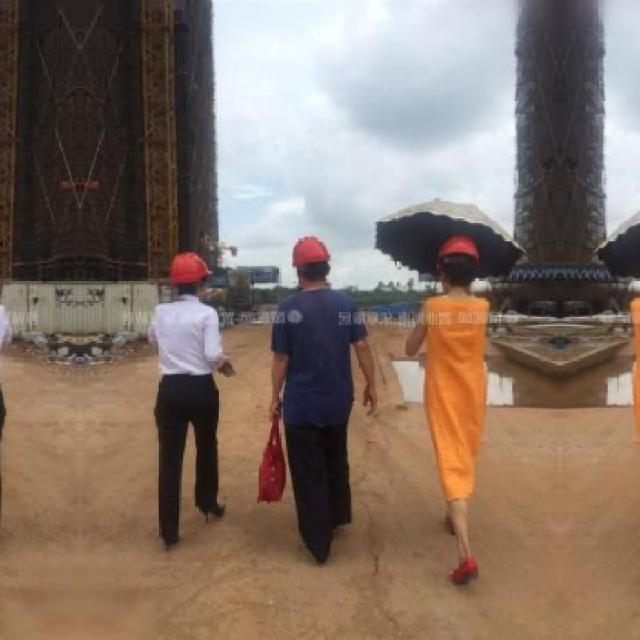con casco: (264, 208, 389, 329), (413, 216, 520, 341), (141, 233, 232, 328)
